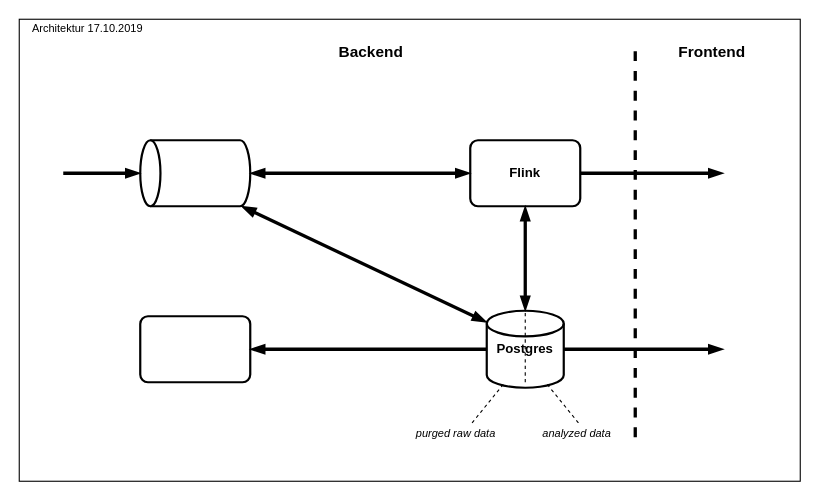
Image size: 820x501. Some labels were removed from this diagram. Each missing label, with the box of its shape:
Kafka: (139, 139, 251, 207)
Zeppelin: (139, 315, 251, 383)
